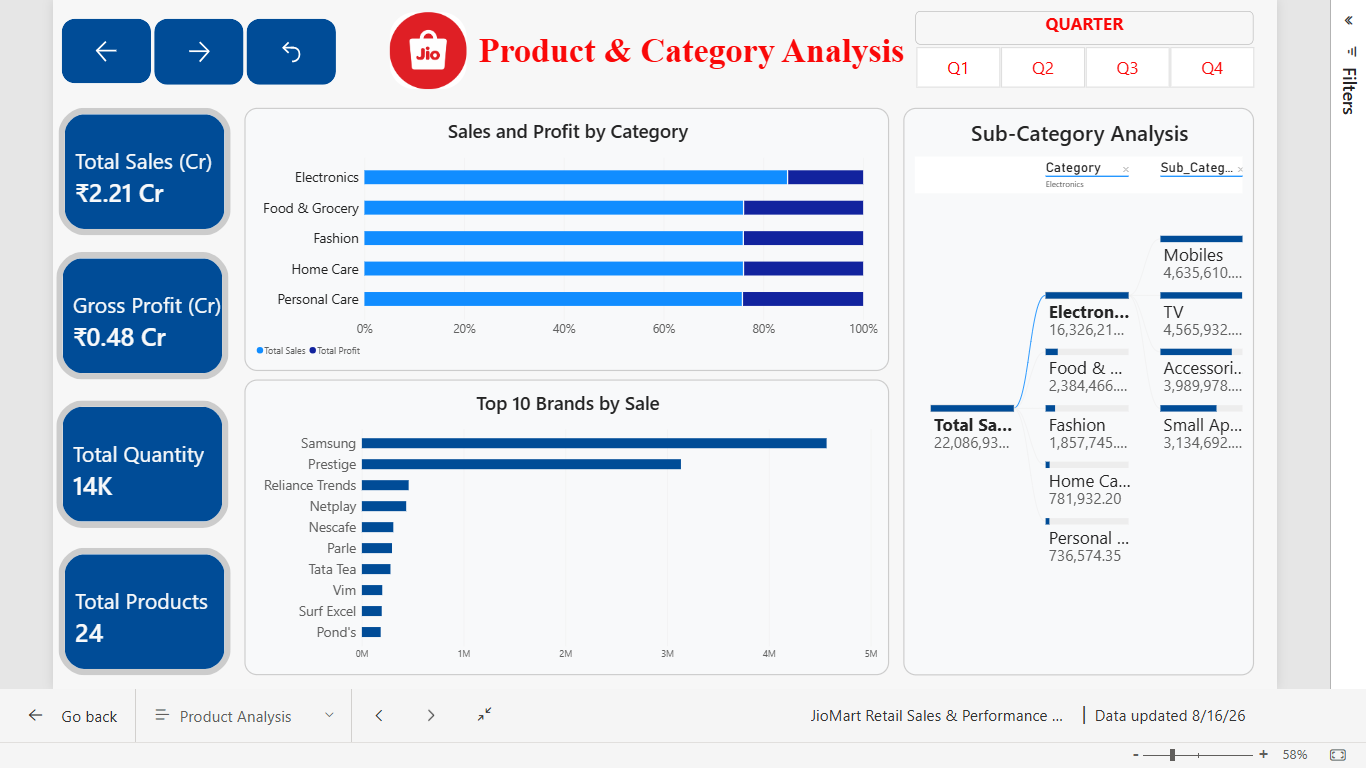

The dashboard page shown, as its layout file describes it:
{"tool":"powerbi","page":{"name":"Product Analysis","canvas":[1920,1080],"ordinal":4},"visuals":[{"type":"textbox","box":[1352.5,17.5,530,52.5],"z":0},{"type":"image","box":[528.3,18.8,120.7,120.7],"z":1000},{"type":"shape","box":[667.7,18.8,683.8,120.7],"z":2000},{"type":"slicer","fields":{"Values":["Date.Quarter"]},"box":[1333.5,72.7,568.7,66.1],"z":3000},{"type":"cardVisual","fields":{"Data":["Sales Measures.Total Sales (Cr)"]},"box":[8,168.9,270,200],"z":4000},{"type":"cardVisual","fields":{"Data":["Profitability Measures.Total Profit (Cr)"]},"box":[5.4,394.2,270,200],"z":5000},{"type":"cardVisual","fields":{"Data":["Other Measures.Total Products"]},"box":[8,858.1,270,200],"z":6000},{"type":"cardVisual","fields":{"Data":["Sales Measures.Total Quantity"]},"box":[5.4,627.5,270,200],"z":7000},{"type":"hundredPercentStackedBarChart","title":"Sales and Profit by Category","fields":{"Category":["Sales.Category"],"Y":["Sales Measures.Total Sales","Profitability Measures.Total Profit"]},"box":[300.3,168.9,1010.9,413],"z":8000},{"type":"decompositionTreeVisual","title":"Sub-Category Analysis","fields":{"Analyze":["Sales Measures.Total Sales"],"ExplainBy":["Sales.Category","Sales.Sub_Category"]},"box":[1332.7,168.9,549.7,890.3],"z":9000},{"type":"barChart","title":"Top 10 Brands by Sale","fields":{"Category":["Sales.Brand"],"Y":["Sales Measures.Total Sales"]},"box":[300.3,595.3,1010.9,463.9],"z":10000},{"type":"actionButton","box":[13.2,28.7,140,101.4],"z":11000},{"type":"actionButton","box":[158.7,28.7,140,103.6],"z":12000},{"type":"actionButton","box":[304.2,28.7,140,103.6],"z":13000}]}

Visuals, with their boxes on the page's 1920x1080 design canvas (x1, y1, x2, y2). These are canvas units, not pixel positions in the 1366x768 screenshot, which may show the page scaled, cropped or inside an application window:
textbox: 1352:18:1882:70
image: 528:19:649:140
shape: 668:19:1352:140
slicer - Date.Quarter: 1334:73:1902:139
cardVisual - Sales Measures.Total Sales (Cr): 8:169:278:369
cardVisual - Profitability Measures.Total Profit (Cr): 5:394:275:594
cardVisual - Other Measures.Total Products: 8:858:278:1058
cardVisual - Sales Measures.Total Quantity: 5:628:275:828
"Sales and Profit by Category" hundredPercentStackedBarChart: 300:169:1311:582
"Sub-Category Analysis" decompositionTreeVisual: 1333:169:1882:1059
"Top 10 Brands by Sale" barChart: 300:595:1311:1059
actionButton: 13:29:153:130
actionButton: 159:29:299:132
actionButton: 304:29:444:132
